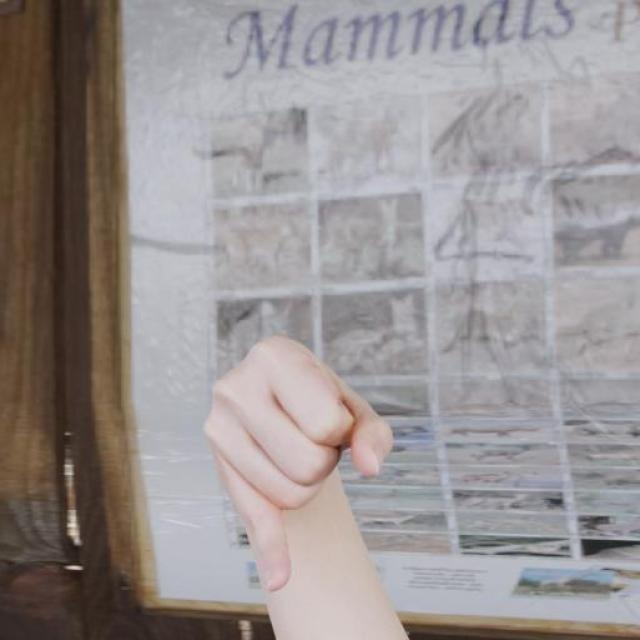J: (200, 336, 394, 594)
